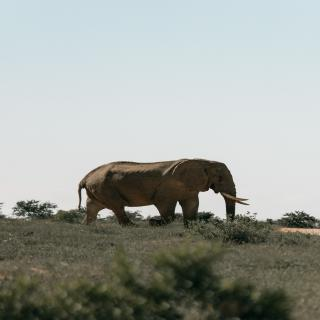Elephant: (73, 154, 256, 228)
